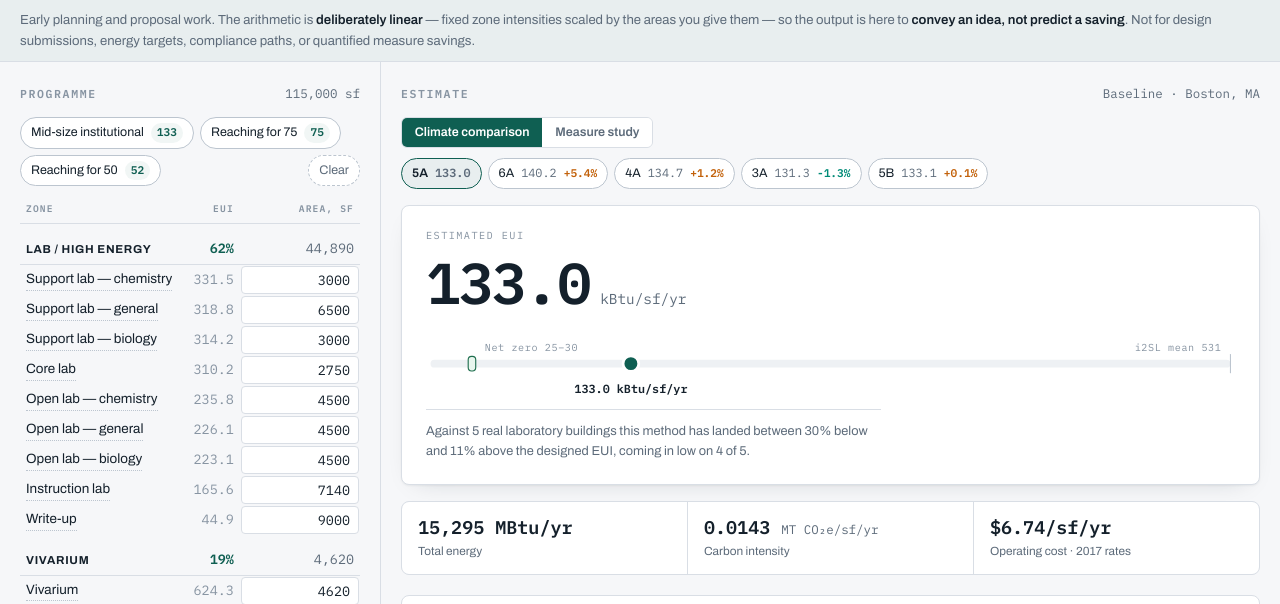
Test: the export control › appears on the comparison strip too, once there is one
Click the button "Measure study": (597, 133) x1=542 y1=118 x2=652 y2=147
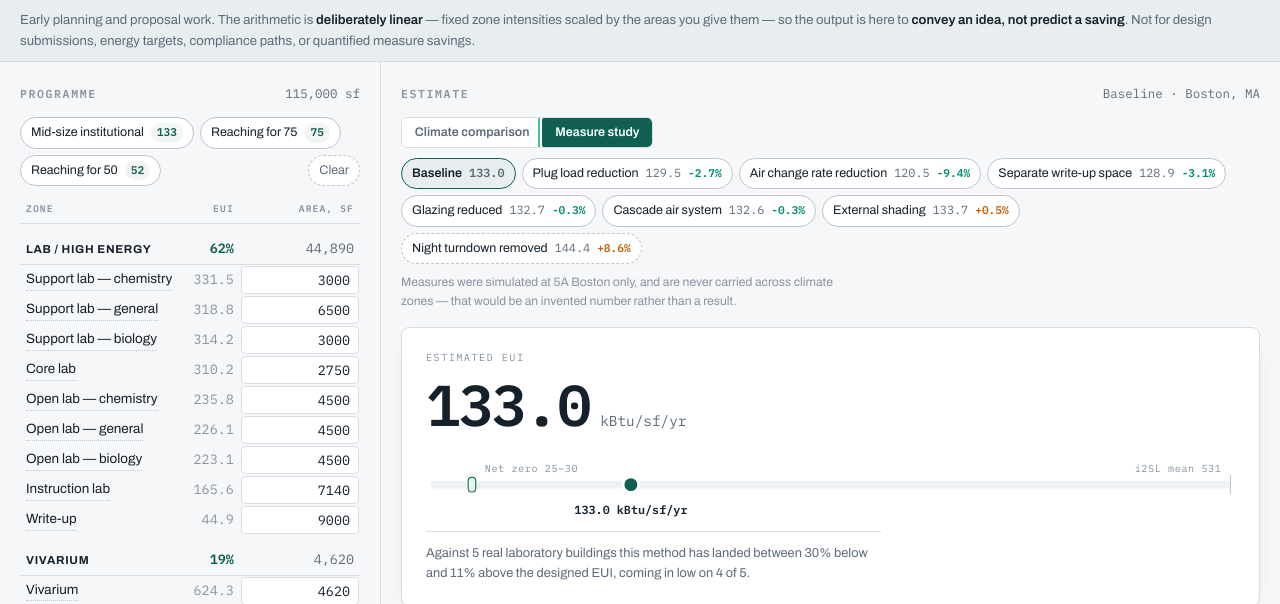
Click the button "Air change rate reduction 120.5 -9.4%": (860, 174) x1=739 y1=158 x2=981 y2=189
(page scrolled)
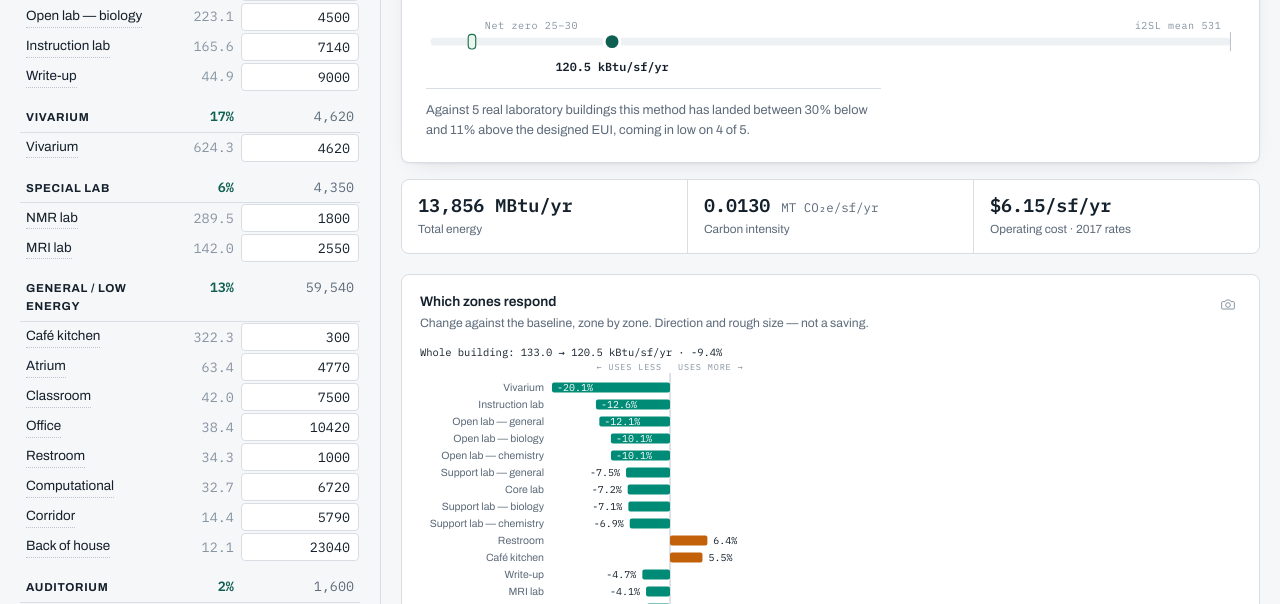
Now the button named "Download Which zones respond as PNG" is shown, box x1=1215 y1=291 x2=1241 y2=317
